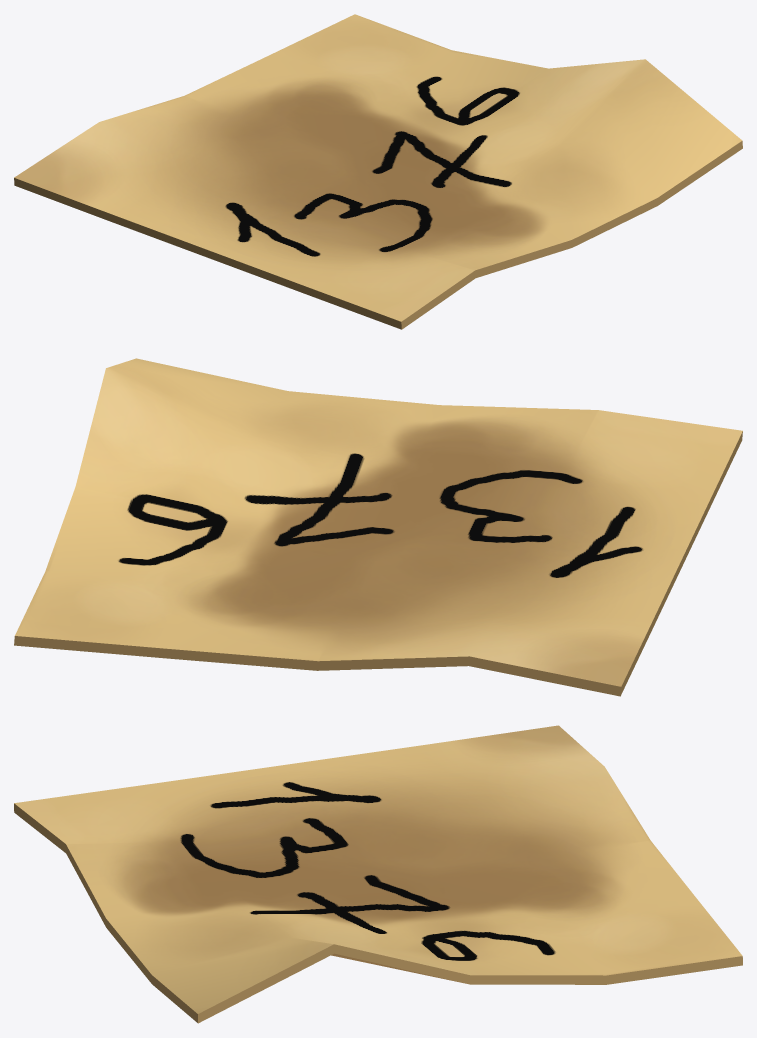
The model's file is Paper.glb.
3 renders of one model, top to bottom at view 1: azimuth 30°, elevation 25°; view 2: azimuth 150°, elevation 25°; view 3: azimuth 270°, elevation 25°, orthographic. The views are drawn at different scales.
Parts seen in each view (by area): view 1: Plane; view 2: Plane; view 3: Plane.
Boxes of the visible parts, x1,y1,x2,y2 form: Plane: (14, 14, 742, 329); Plane: (14, 358, 742, 696); Plane: (14, 725, 742, 1023).
Size of the model in its own units: 2.39 by 0.2867 by 2.39.
Materials: 1 (1 with a texture image).
